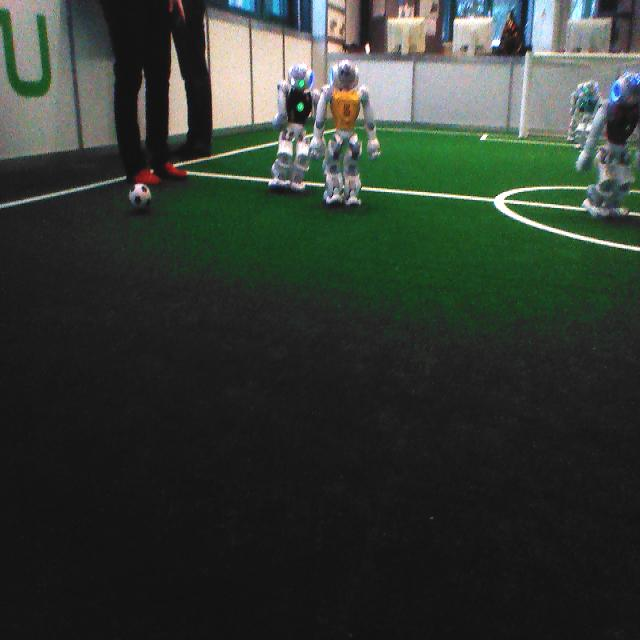ball: (125, 180, 155, 212)
goalpost: (517, 44, 535, 140)
